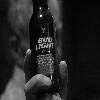beer: (29, 1, 60, 93)
